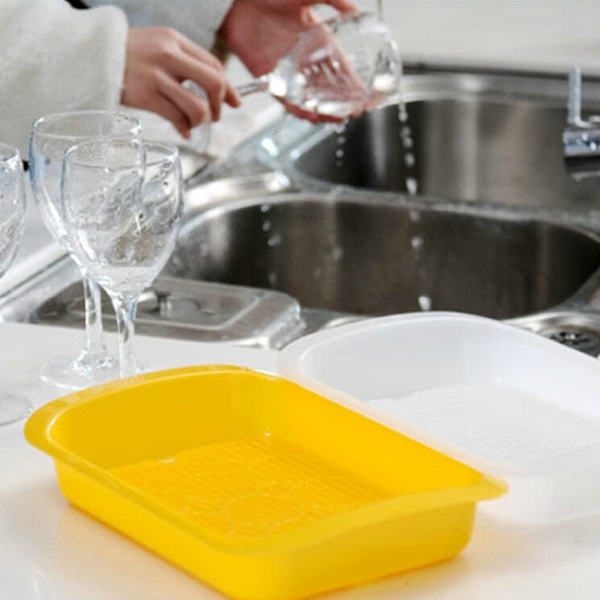glass of water: (57, 136, 189, 415)
